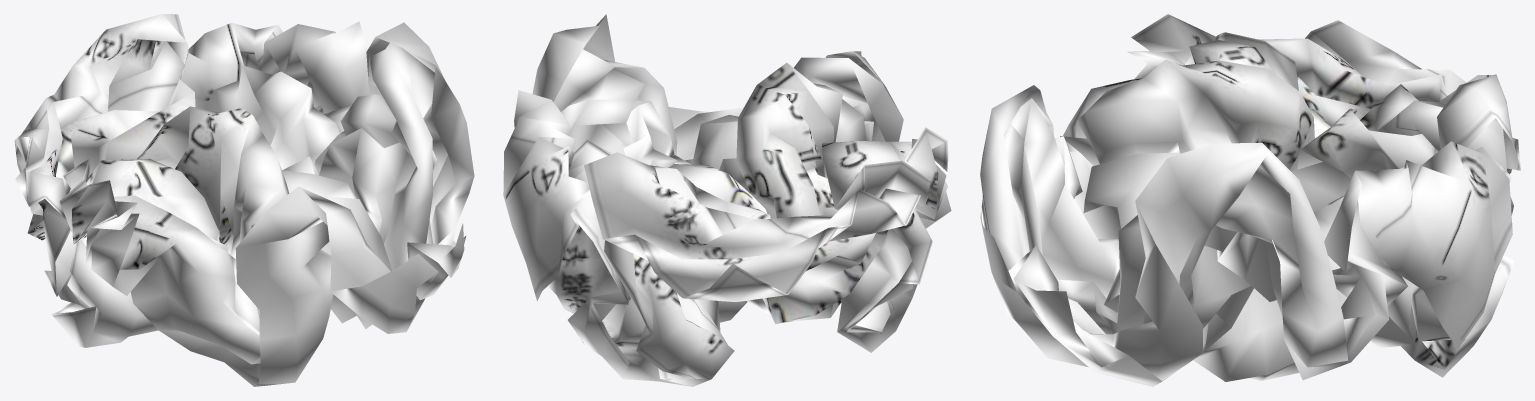
Rendered from paper.fbx.
3 views of the same model, side by side, from view 1: azimuth 30°, elevation 25°; view 2: azimuth 150°, elevation 25°; view 3: azimuth 270°, elevation 25° (orthographic). The views are drawn at different scales.
Parts seen in each view (by area): view 1: Plane001; view 2: Plane001; view 3: Plane001.
Boxes of the visible parts, box(x1,y1,x2,y2) form: Plane001: box(14, 14, 474, 386); Plane001: box(503, 14, 951, 386); Plane001: box(980, 14, 1520, 386).
Size of the model in its own units: 16.12 by 10.27 by 16.4.
1 material, 1 textured.
